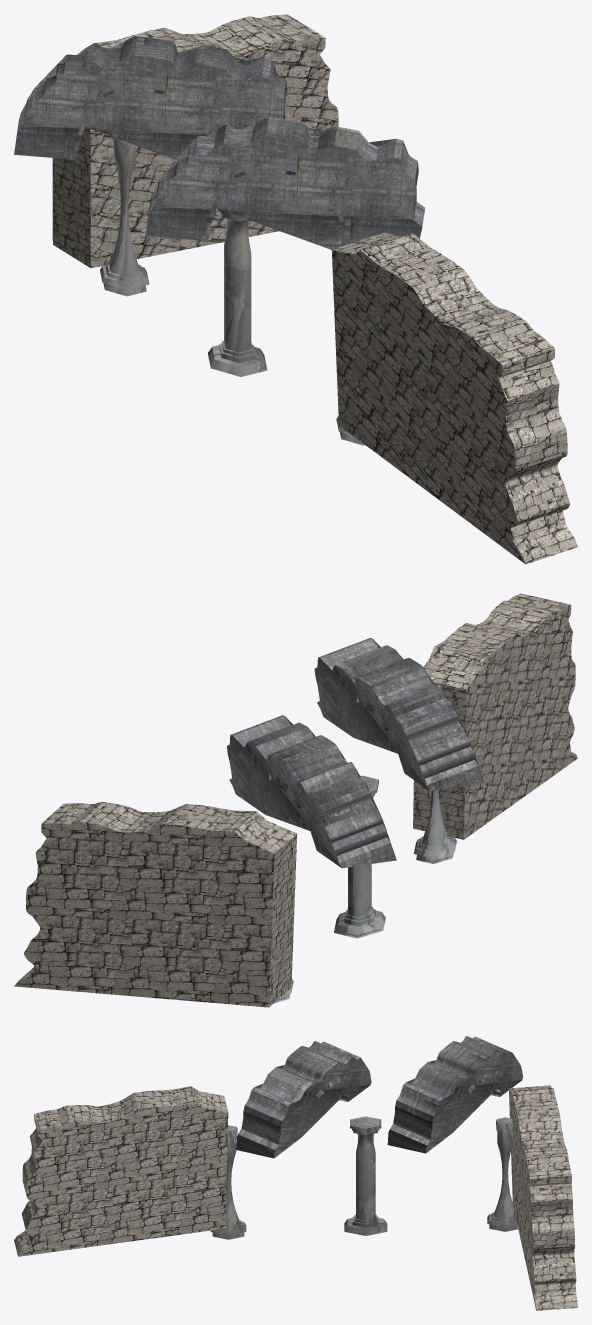
File: gothic_pillar.FBX
The picture shows the model from 3 angles, top to bottom: view 1: azimuth 30°, elevation 25°; view 2: azimuth 150°, elevation 25°; view 3: azimuth 270°, elevation 25°; orthographic projection. The views are drawn at different scales.
Parts seen in each view (by area): view 1: Line006, Line001, Line005, Line004, Cylinder003, Cylinder004; view 2: Line004, Line006, Line005, Line001, Cylinder003, Cylinder005; view 3: Line006, Line004, Line005, Line001, Cylinder003, Cylinder004, Cylinder005.
Part boxes in pixels (x1,y1,x2,y2): Line006: (331, 232, 577, 564); Line001: (145, 117, 424, 249); Line005: (14, 36, 287, 159); Line004: (52, 14, 338, 268); Cylinder003: (208, 209, 267, 376); Cylinder004: (100, 137, 149, 296); Line004: (14, 802, 297, 1007); Line006: (413, 593, 577, 839); Line005: (227, 715, 396, 868); Line001: (314, 638, 484, 790); Cylinder003: (334, 775, 385, 938); Cylinder005: (414, 789, 456, 863); Line006: (14, 1086, 228, 1256); Line004: (509, 1085, 577, 1310); Line005: (387, 1036, 523, 1153); Line001: (236, 1041, 371, 1158); Cylinder003: (344, 1116, 387, 1235); Cylinder004: (487, 1117, 518, 1231); Cylinder005: (210, 1125, 246, 1239).
Size of the model in its own units: 252 by 178 by 504.
Materials: 3 (3 with a texture image).
